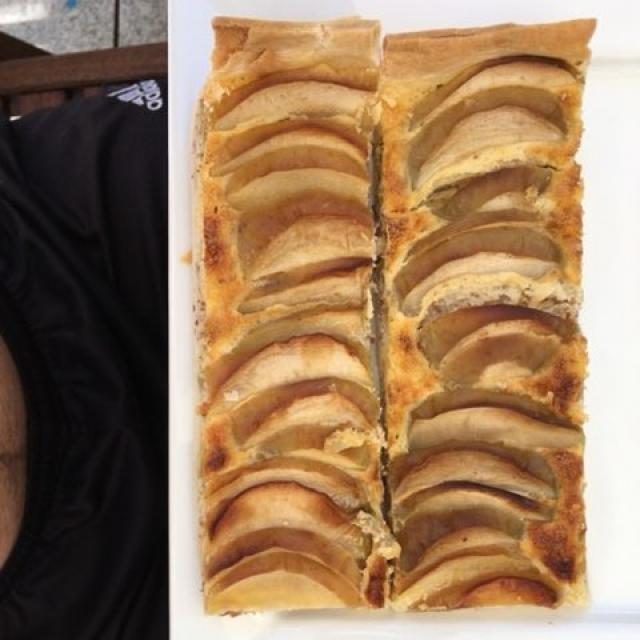apple-pie: (199, 37, 578, 591)
